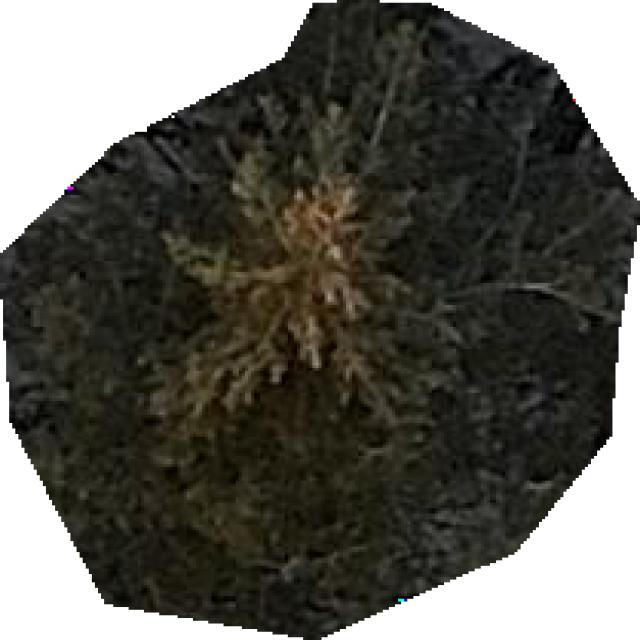spruce: (0, 0, 637, 637)
